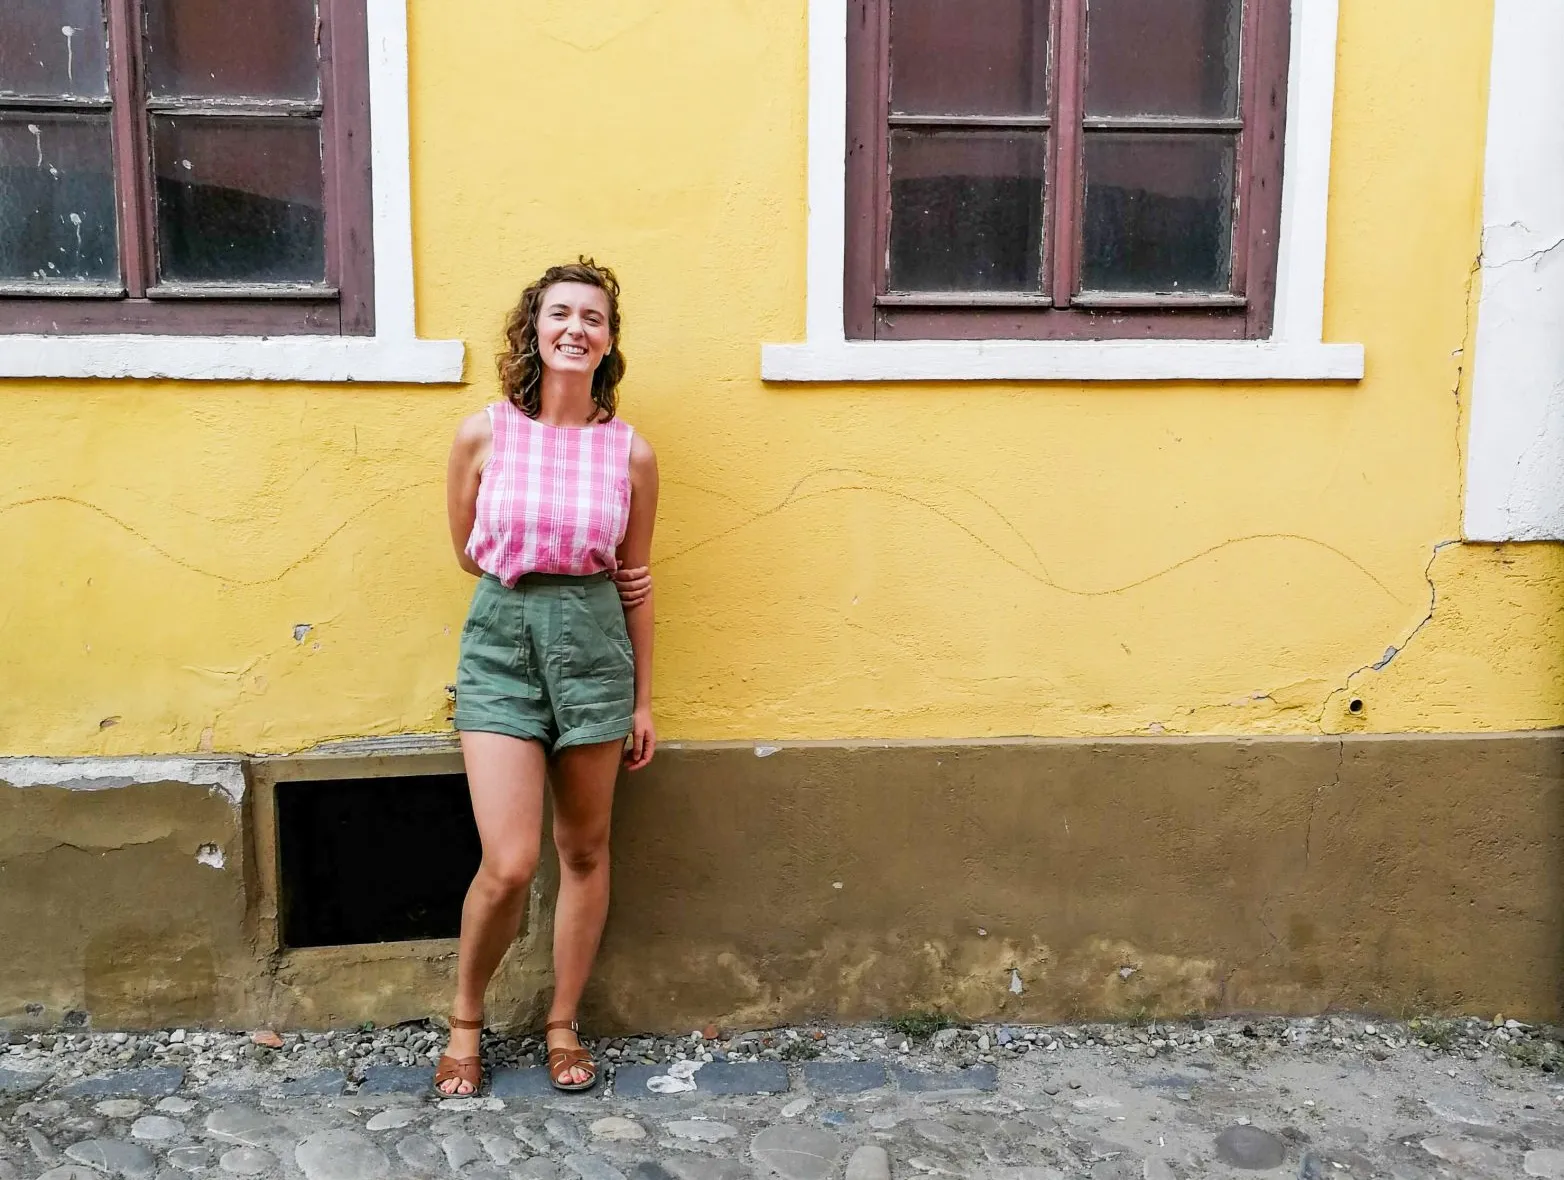person: (399, 247, 686, 1108)
